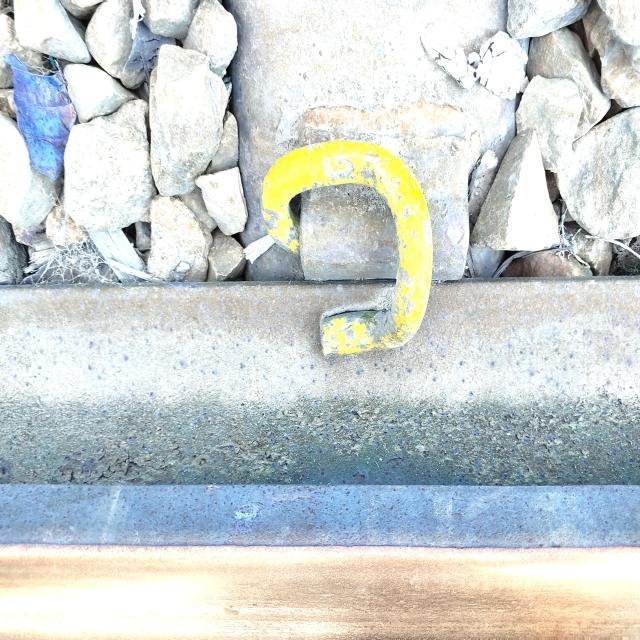Good Fasteners: (261, 101, 481, 356)
